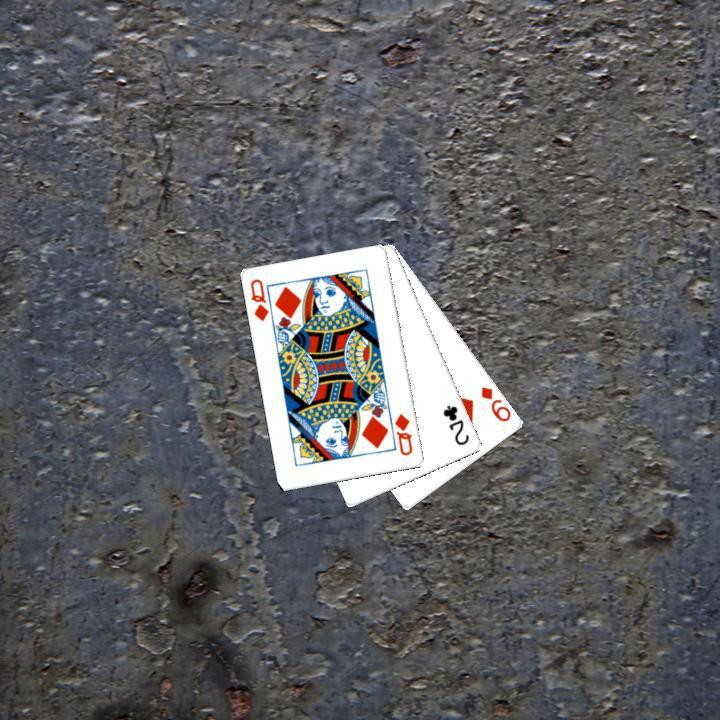2: (439, 401, 472, 448)
9: (477, 382, 514, 424)
Q: (390, 409, 415, 458), (246, 275, 271, 324)
